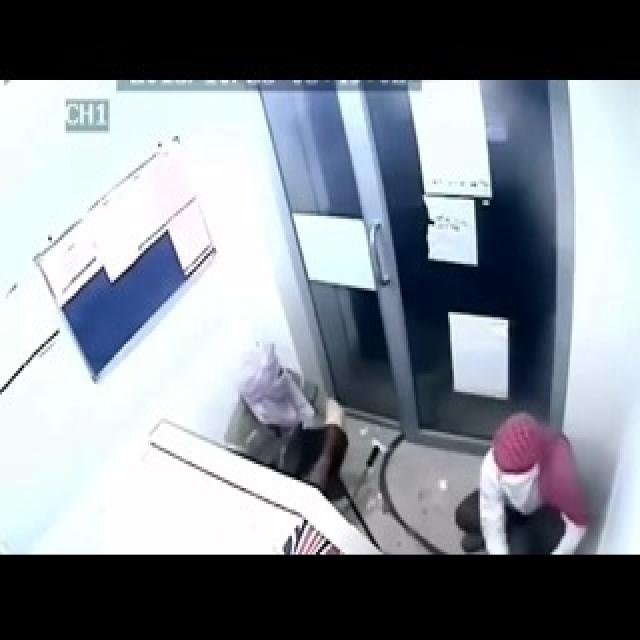thief: (221, 325, 370, 497), (453, 402, 598, 553)
